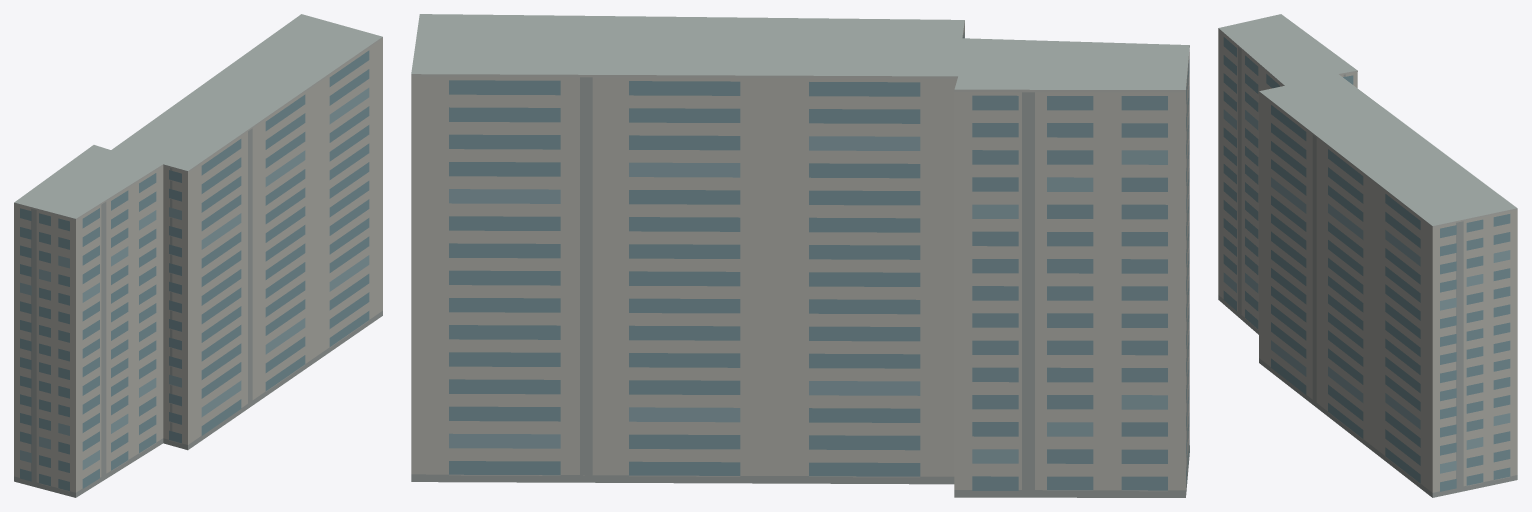
File: residential-a2711891-b5fd-48d2-8952-0debca0456b5.glb
3 renders of one model, left to right at view 1: azimuth 30°, elevation 25°; view 2: azimuth 150°, elevation 25°; view 3: azimuth 270°, elevation 25°, orthographic. The views are drawn at different scales.
Parts seen in each view (by area): view 1: residential-a2711891-b5fd-48d2-8952-0debca0456b5.tmp; view 2: residential-a2711891-b5fd-48d2-8952-0debca0456b5.tmp; view 3: residential-a2711891-b5fd-48d2-8952-0debca0456b5.tmp.
Part boxes in pixels (x1,y1,x2,y2): residential-a2711891-b5fd-48d2-8952-0debca0456b5.tmp: (14, 14, 382, 497); residential-a2711891-b5fd-48d2-8952-0debca0456b5.tmp: (411, 14, 1189, 497); residential-a2711891-b5fd-48d2-8952-0debca0456b5.tmp: (1218, 14, 1517, 497).
Size of the model in its own units: 70.32 by 42 by 41.89.
